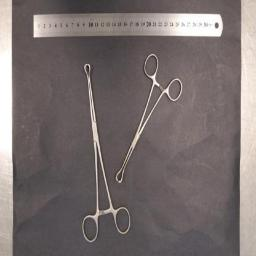Babcock Tissue Forceps: (116, 54, 182, 182)
